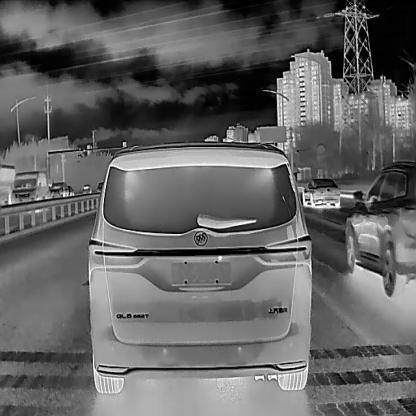car: (87, 137, 313, 394), (344, 157, 415, 296), (301, 176, 340, 208), (47, 181, 67, 197), (81, 183, 91, 193), (95, 179, 103, 191)
truck: (8, 170, 48, 203), (0, 164, 14, 204)
